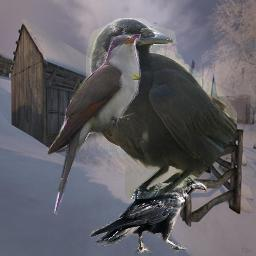Crow: (86, 18, 237, 199), (89, 171, 207, 256)
Cuckoo: (46, 34, 141, 216)
